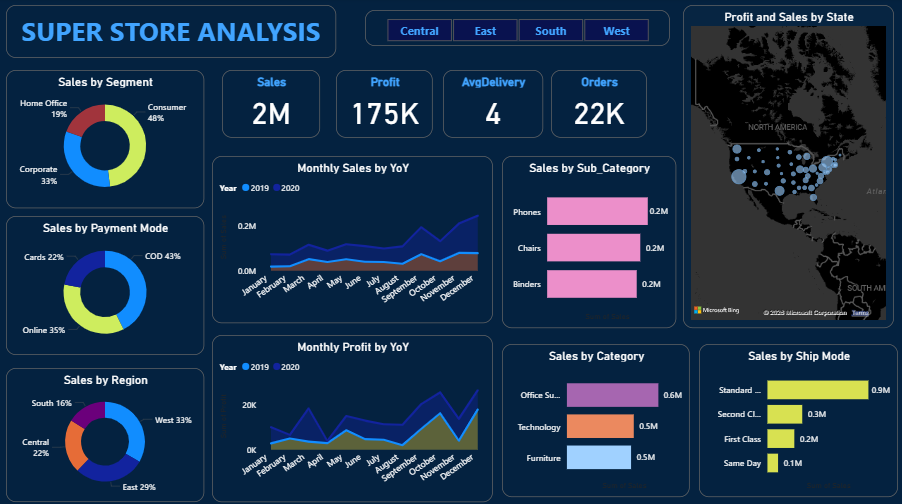

The page's visual inventory and layout, read from the dashboard file:
{"tool":"powerbi","page":{"name":"Super store Analysis","canvas":[1280,720],"ordinal":0},"visuals":[{"type":"clusteredBarChart","title":"Sales by Category","fields":{"Y":["Sum(SuperStore_Sales_Dataset.Sales)"],"Category":["SuperStore_Sales_Dataset.Category"]},"box":[712.9,490.4,266.5,216.9],"z":0},{"type":"clusteredBarChart","title":"Sales by Sub_Category","fields":{"Y":["Sum(SuperStore_Sales_Dataset.Sales)"],"Category":["SuperStore_Sales_Dataset.Sub-Category"]},"box":[712.9,223.9,246.6,243.8],"z":1000},{"type":"clusteredBarChart","title":"Sales by Ship Mode","fields":{"Y":["Sum(SuperStore_Sales_Dataset.Sales)"],"Category":["SuperStore_Sales_Dataset.Ship Mode"]},"box":[992.1,490.4,282,216.9],"z":2000},{"type":"stackedAreaChart","title":"Monthly Sales by YoY","fields":{"Category":["SuperStore_Sales_Dataset.Order Date.Variation.Date Hierarchy.Month","SuperStore_Sales_Dataset.Order Date.Variation.Date Hierarchy.Day"],"Y":["Sum(SuperStore_Sales_Dataset.Sales)"],"Series":["SuperStore_Sales_Dataset.Order Date.Variation.Date Hierarchy.Year"]},"box":[301.9,223.9,398.3,236.7],"z":3000},{"type":"stackedAreaChart","title":"Monthly Profit by YoY","fields":{"Category":["SuperStore_Sales_Dataset.Order Date.Variation.Date Hierarchy.Month","SuperStore_Sales_Dataset.Order Date.Variation.Date Hierarchy.Day"],"Series":["SuperStore_Sales_Dataset.Order Date.Variation.Date Hierarchy.Year"],"Y":["Sum(SuperStore_Sales_Dataset.Profit)"]},"box":[301.9,477.6,398.3,236.7],"z":4000},{"type":"map","title":"Profit and Sales by State","fields":{"Size":["Sum(SuperStore_Sales_Dataset.Sales)"],"Category":["SuperStore_Sales_Dataset.State"]},"box":[969.4,9.9,299.1,457.8],"z":5000},{"type":"textbox","box":[9.9,9.9,467.7,75.1],"z":6000},{"type":"slicer","fields":{"Values":["SuperStore_Sales_Dataset.Region"]},"box":[518.7,17,432.3,51],"z":7000},{"type":"donutChart","title":" Sales by Segment","fields":{"Y":["Sum(SuperStore_Sales_Dataset.Sales)"],"Category":["SuperStore_Sales_Dataset.Segment"]},"box":[9.9,102,280.6,195.6],"z":8000},{"type":"card","title":"Profit","fields":{"Values":["Sum(SuperStore_Sales_Dataset.Profit)"]},"box":[477.6,102,137.5,96.4],"z":9000},{"type":"card","title":"Sales","fields":{"Values":["Sum(SuperStore_Sales_Dataset.Sales)"]},"box":[316.1,102,138.9,96.4],"z":10000},{"type":"card","title":"AvgDelivery","fields":{"Values":["Avg(SuperStore_Sales_Dataset.AvgDelivery)"]},"box":[629.3,102,141.7,96.4],"z":11000},{"type":"card","title":"Orders","fields":{"Values":["Sum(SuperStore_Sales_Dataset.Quantity)"]},"box":[782.4,102,136.1,96.4],"z":12000},{"type":"donutChart","title":"Sales by Payment Mode","fields":{"Y":["Sum(SuperStore_Sales_Dataset.Sales)"],"Category":["SuperStore_Sales_Dataset.Payment Mode"]},"box":[9.9,309,280.6,197],"z":13000},{"type":"donutChart","title":"Sales by Region","fields":{"Y":["Sum(SuperStore_Sales_Dataset.Sales)"],"Category":["SuperStore_Sales_Dataset.Region"]},"box":[9.9,524.4,280.6,189.9],"z":14000}]}

Visuals, with their boxes in screenshot pixels (x1, y1, x2, y2), scaled from the page's 1280x720 canvas onto the 902x504 screenshot:
"Sales by Category" clusteredBarChart: (left=502, top=343, right=690, bottom=495)
"Sales by Sub_Category" clusteredBarChart: (left=502, top=157, right=676, bottom=327)
"Sales by Ship Mode" clusteredBarChart: (left=699, top=343, right=898, bottom=495)
"Monthly Sales by YoY" stackedAreaChart: (left=213, top=157, right=493, bottom=322)
"Monthly Profit by YoY" stackedAreaChart: (left=213, top=334, right=493, bottom=500)
"Profit and Sales by State" map: (left=683, top=7, right=894, bottom=327)
textbox: (left=7, top=7, right=337, bottom=59)
slicer - SuperStore_Sales_Dataset.Region: (left=366, top=12, right=670, bottom=48)
" Sales by Segment" donutChart: (left=7, top=71, right=205, bottom=208)
"Profit" card: (left=337, top=71, right=433, bottom=139)
"Sales" card: (left=223, top=71, right=321, bottom=139)
"AvgDelivery" card: (left=443, top=71, right=543, bottom=139)
"Orders" card: (left=551, top=71, right=647, bottom=139)
"Sales by Payment Mode" donutChart: (left=7, top=216, right=205, bottom=354)
"Sales by Region" donutChart: (left=7, top=367, right=205, bottom=500)
